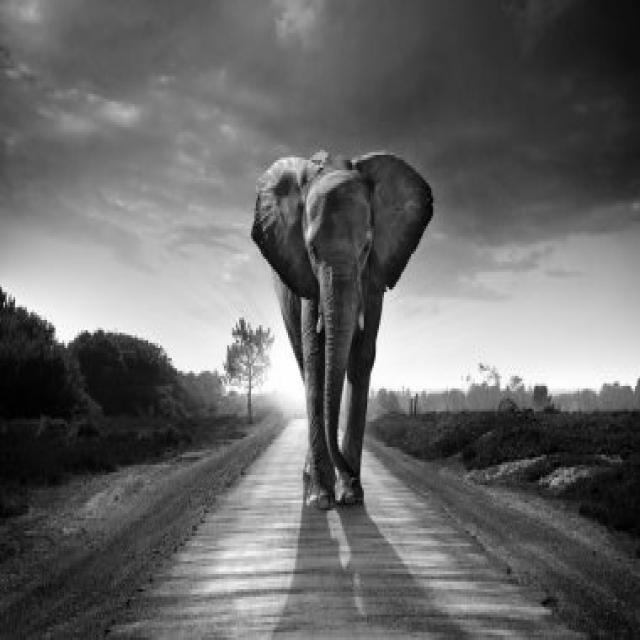Animal: (252, 158, 432, 510)
